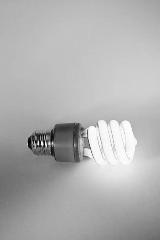lightbulb: (27, 118, 137, 166)
